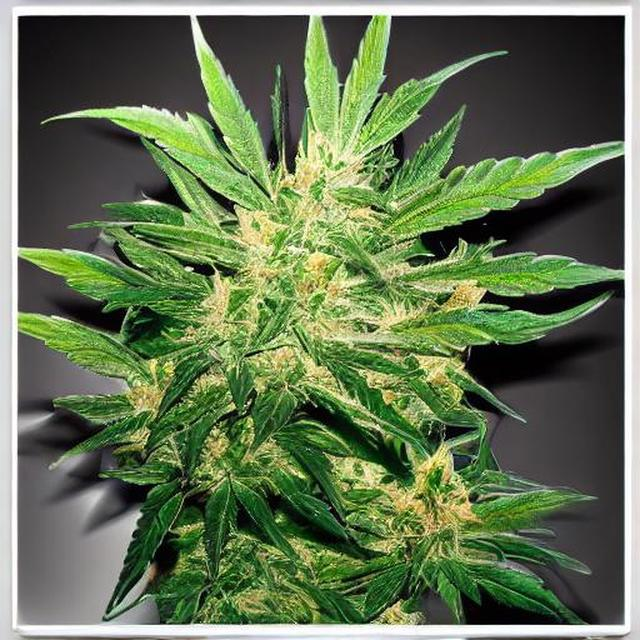Marijuana Plant: (0, 50, 640, 639)
